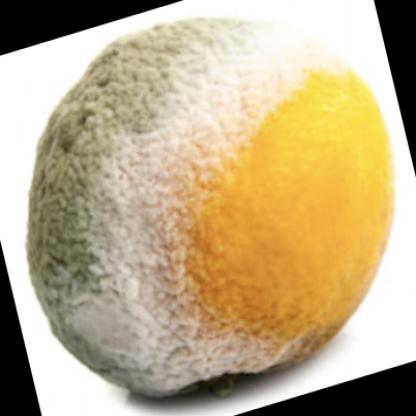rotten_orange: (11, 17, 401, 402)
